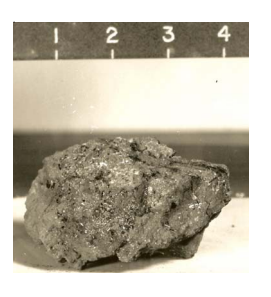Breccia: (36, 129, 233, 267), (91, 160, 207, 245), (56, 167, 160, 256)
